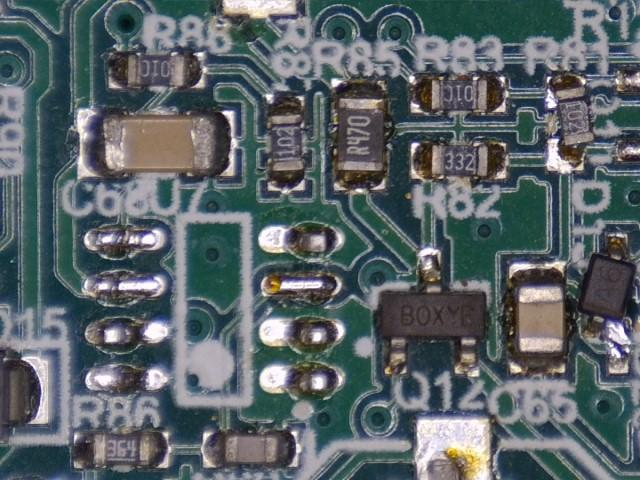pcb_defect: (576, 233, 639, 378), (544, 74, 596, 174)
